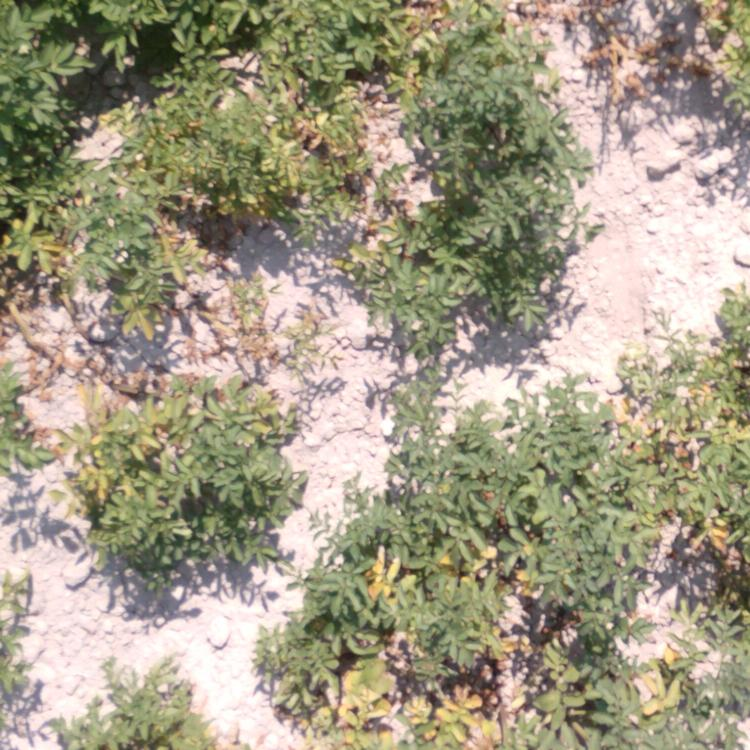healthy: (423, 86, 574, 297), (5, 1, 201, 146), (405, 407, 543, 499)
stressed: (293, 519, 545, 744), (572, 333, 749, 583), (67, 372, 266, 530), (225, 2, 366, 211), (11, 172, 211, 314), (558, 612, 736, 740), (374, 3, 581, 73), (630, 1, 738, 102)
